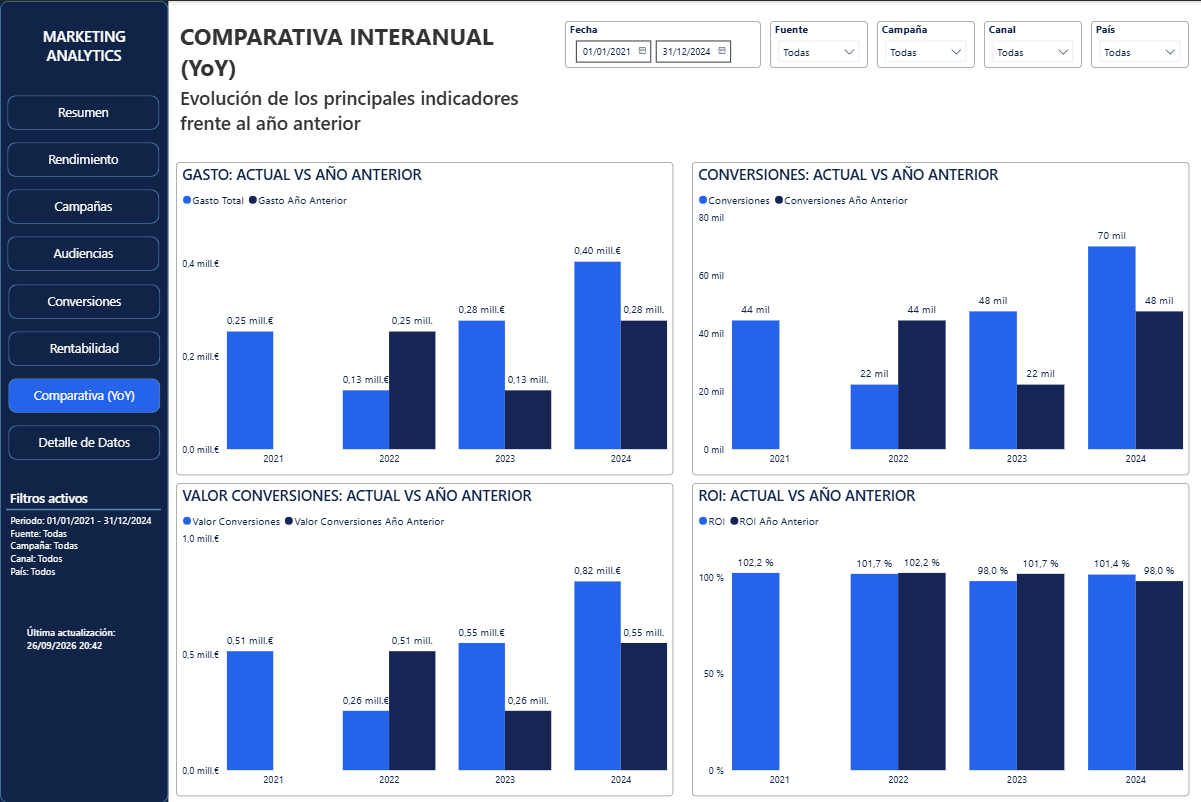

Layout of this report page (visuals, bound fields, positions):
{"tool":"powerbi","page":{"name":"Comparativa (YoY)","canvas":[1536,1024],"ordinal":6},"visuals":[{"type":"group","id":"g1","title":"Grupo 3","box":[0,0,215,1024],"z":0,"group":"g2"},{"type":"shape","box":[0,0,215,1024],"z":0,"group":"g1"},{"type":"group","id":"g2","title":"Grupo 4","box":[0,0,214.5,1024],"z":0},{"type":"textbox","title":"COMPARATIVA INTERANUAL (YoY)","box":[224.7,24.3,486.5,153.2],"z":1000},{"type":"textbox","box":[1.3,26.8,212,68.9],"z":1000,"group":"g1"},{"type":"shape","box":[6.4,117.5,200,50],"z":1000,"group":"g2"},{"type":"slicer","title":"País","fields":{"Values":["DimPais.AudienciaPais"]},"box":[1393,25,125,60],"z":2000},{"type":"shape","box":[6.6,177.7,200,50],"z":2000,"group":"g2"},{"type":"slicer","title":"Fuente","fields":{"Values":["DimFuente.Fuente"]},"box":[983.2,25,125,60],"z":3000},{"type":"shape","box":[6.7,237.9,200,50],"z":3000,"group":"g2"},{"type":"slicer","title":"Canal","fields":{"Values":["DimCanal.CampaniaCanal"]},"box":[1256.4,25,125,60],"z":4000},{"type":"shape","box":[6.9,298,200,50],"z":4000,"group":"g2"},{"type":"slicer","title":"Fecha","fields":{"Values":["DimCalendar.Fecha"]},"box":[721.4,25,250.3,60],"z":5000},{"type":"shape","box":[7.1,358.2,200,50],"z":5000,"group":"g2"},{"type":"shape","box":[7.3,418.4,200,50],"z":6000,"group":"g2"},{"type":"slicer","title":"Campaña","fields":{"Values":["DimCampania.CampaniaNombre"]},"box":[1119.8,25,125,60],"z":7000},{"type":"shape","box":[7.5,478.6,200,50],"z":7000,"group":"g2"},{"type":"clusteredColumnChart","title":"GASTO: ACTUAL VS AÑO ANTERIOR","fields":{"Category":["DimCalendar.#Año"],"Y":["_Medidas.Gasto Total","_Medidas.Gasto Año Anterior"]},"box":[224.7,205,635,400],"z":8000},{"type":"shape","box":[7.7,538.8,200,50],"z":8000,"group":"g2"},{"type":"clusteredColumnChart","title":"CONVERSIONES: ACTUAL VS AÑO ANTERIOR","fields":{"Category":["DimCalendar.#Año"],"Y":["_Medidas.Conversiones","_Medidas.Conversiones Año Anterior"]},"box":[883.6,205,635,400],"z":9000},{"type":"textbox","box":[7.7,619.3,199.2,33.2],"z":9000},{"type":"clusteredColumnChart","title":"VALOR CONVERSIONES: ACTUAL VS AÑO ANTERIOR","fields":{"Category":["DimCalendar.#Año"],"Y":["_Medidas.Valor Conversiones","_Medidas.Valor Conversiones Año Anterior"]},"box":[224.7,615,635,400],"z":10000},{"type":"clusteredColumnChart","title":"ROI: ACTUAL VS AÑO ANTERIOR","fields":{"Category":["DimCalendar.#Año"],"Y":["_Medidas.ROI","_Medidas.ROI Año Anterior"]},"box":[883.6,615,635,400],"z":11000},{"type":"cardVisual","fields":{"Data":["Medidas.Última Actualización"]},"box":[20.4,766.1,169.8,93.2],"z":11001},{"type":"cardVisual","fields":{"Data":["_Medidas.Filtros Activos - Resumen"]},"box":[1.3,619.3,213.2,150.7],"z":11002},{"type":"shape","box":[7.7,635.9,197.9,26.8],"z":11003}]}

Visuals, with their boxes on the page's 1536x1024 design canvas (x1, y1, x2, y2). These are canvas units, not pixel positions in the 1201x802 screenshot, which may show the page scaled, cropped or inside an application window:
"Grupo 3" group: 0, 0, 215, 1024
shape: 0, 0, 215, 1024
"Grupo 4" group: 0, 0, 214, 1024
"COMPARATIVA INTERANUAL (YoY)" textbox: 225, 24, 711, 178
textbox: 1, 27, 213, 96
shape: 6, 118, 206, 168
"País" slicer: 1393, 25, 1518, 85
shape: 7, 178, 207, 228
"Fuente" slicer: 983, 25, 1108, 85
shape: 7, 238, 207, 288
"Canal" slicer: 1256, 25, 1381, 85
shape: 7, 298, 207, 348
"Fecha" slicer: 721, 25, 972, 85
shape: 7, 358, 207, 408
shape: 7, 418, 207, 468
"Campaña" slicer: 1120, 25, 1245, 85
shape: 8, 479, 208, 529
"GASTO: ACTUAL VS AÑO ANTERIOR" clusteredColumnChart: 225, 205, 860, 605
shape: 8, 539, 208, 589
"CONVERSIONES: ACTUAL VS AÑO ANTERIOR" clusteredColumnChart: 884, 205, 1519, 605
textbox: 8, 619, 207, 652
"VALOR CONVERSIONES: ACTUAL VS AÑO ANTERIOR" clusteredColumnChart: 225, 615, 860, 1015
"ROI: ACTUAL VS AÑO ANTERIOR" clusteredColumnChart: 884, 615, 1519, 1015
cardVisual - Medidas.Última Actualización: 20, 766, 190, 859
cardVisual - _Medidas.Filtros Activos - Resumen: 1, 619, 214, 770
shape: 8, 636, 206, 663
